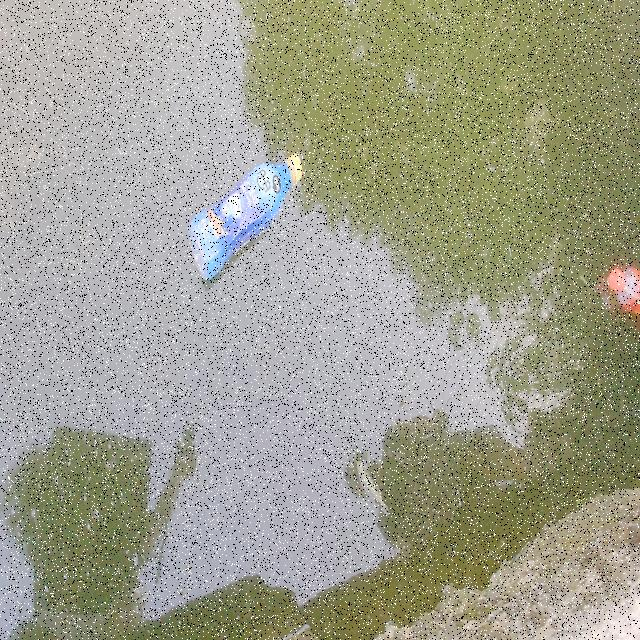Bottle: (187, 151, 304, 282)
